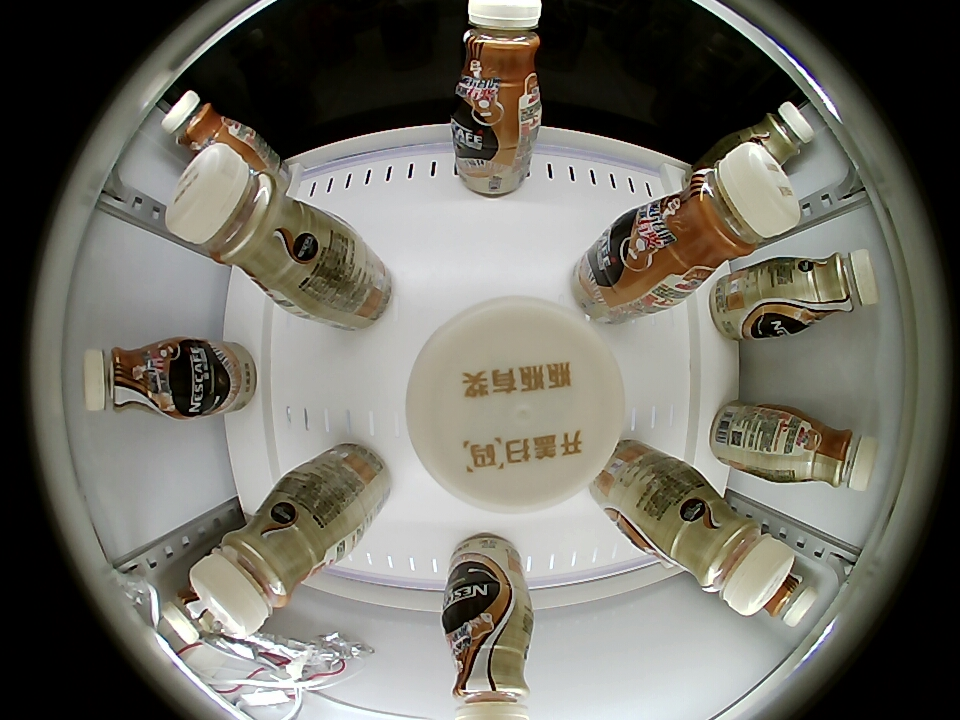kafei: (403, 298, 625, 514), (166, 144, 327, 299), (643, 142, 799, 290), (193, 495, 329, 636), (662, 483, 792, 617), (452, 1, 543, 121), (440, 609, 538, 720), (775, 250, 878, 331), (83, 340, 186, 418), (775, 414, 878, 492), (161, 91, 252, 162), (734, 101, 815, 169), (164, 584, 219, 646), (762, 569, 817, 627)
